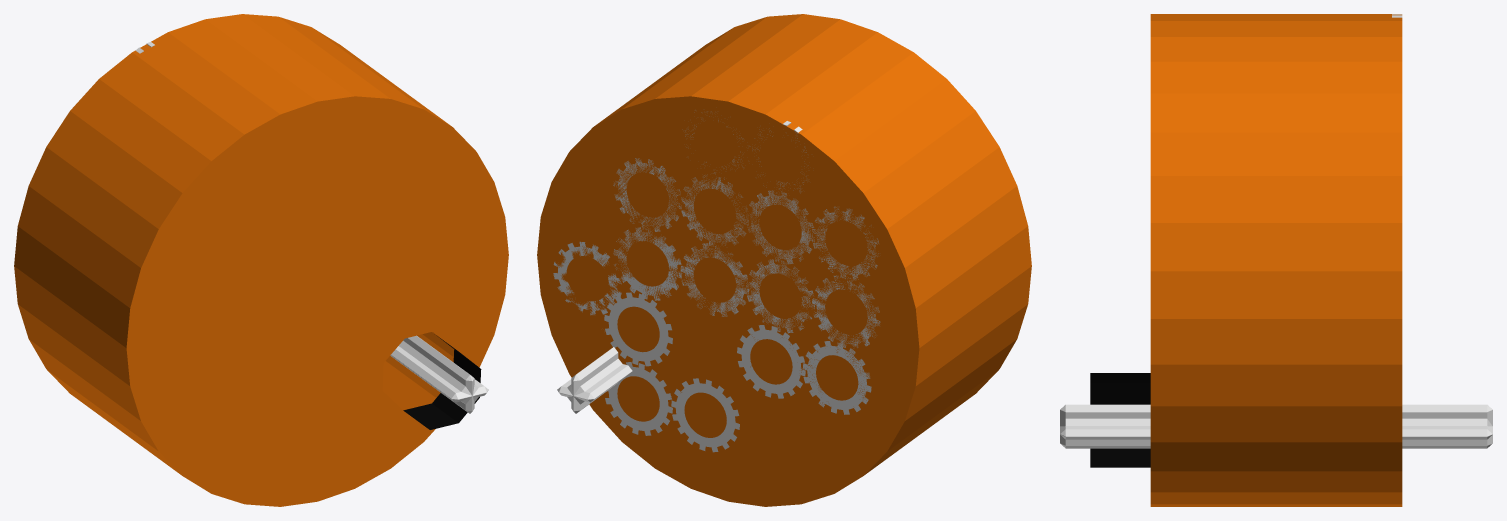
File: mirChasov.fbx
The picture shows the model from 3 angles, left to right: view 1: azimuth 30°, elevation 25°; view 2: azimuth 150°, elevation 25°; view 3: azimuth 270°, elevation 25°; orthographic projection. The views are drawn at different scales.
Parts seen in each view (by area): view 1: Circle.001, Cube; view 2: Circle.001, Circle.013, Cube; view 3: Circle.001, Cube.
Boxes of the visible parts, left/top/right/bottom form: Circle.001: left=14, top=14, right=508, bottom=506; Cube: left=390, top=335, right=488, bottom=413; Circle.001: left=537, top=14, right=1031, bottom=506; Circle.013: left=553, top=110, right=880, bottom=452; Cube: left=557, top=347, right=632, bottom=413; Circle.001: left=1090, top=14, right=1402, bottom=506; Cube: left=1060, top=404, right=1492, bottom=448.
Size of the model in its own units: 239 by 239 by 209.
